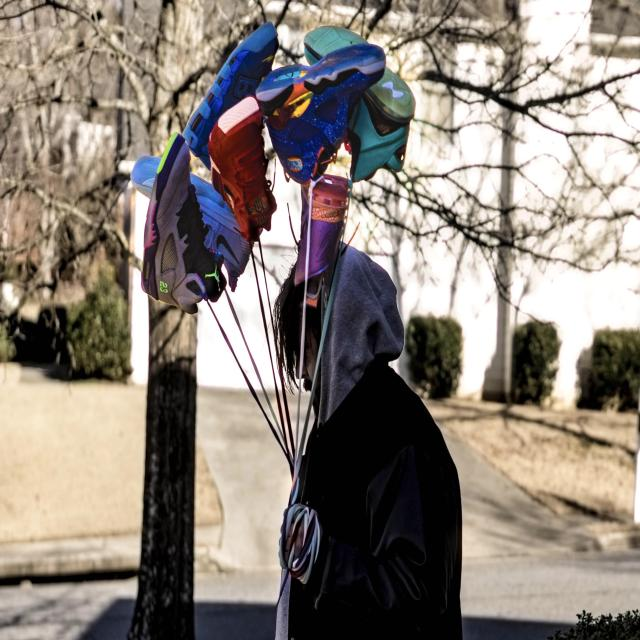shoe: (249, 33, 389, 188), (134, 126, 229, 318), (199, 89, 280, 254)
